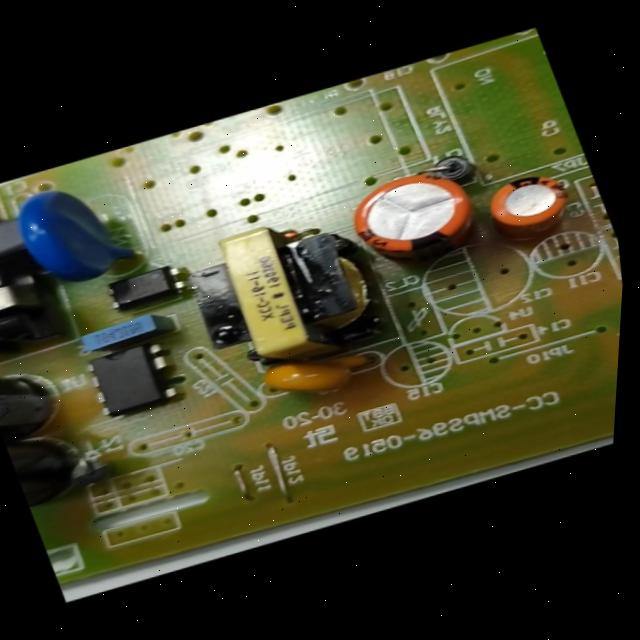Cap1: (330, 151, 507, 285)
Cap2: (461, 147, 603, 254)
Cap3: (0, 338, 74, 445)
Cap4: (0, 400, 119, 517)
MOSFET: (66, 320, 210, 434)
Mov: (0, 160, 165, 315)
Resistor: (0, 185, 11, 244)
Transformer: (163, 189, 423, 389), (0, 241, 101, 375)
